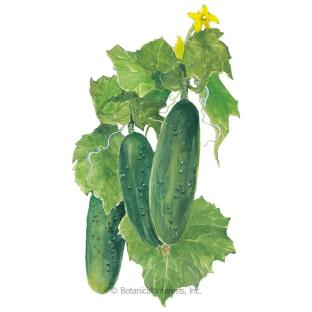Cucumber: (149, 100, 200, 243), (119, 133, 162, 246), (86, 195, 125, 293)
